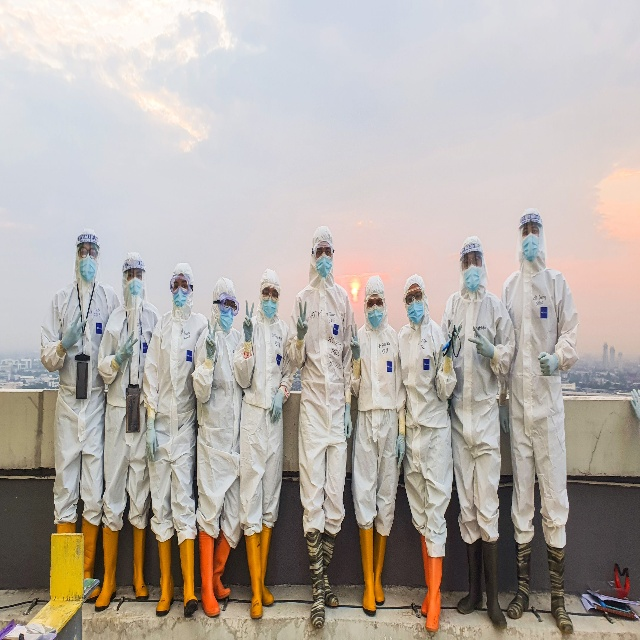Gafas: (217, 293, 239, 316), (169, 275, 189, 293), (403, 287, 423, 305), (262, 287, 280, 301), (78, 247, 97, 260)
Guantes: (61, 309, 88, 350), (468, 324, 496, 357), (114, 329, 138, 365), (537, 350, 560, 378), (269, 389, 285, 425), (205, 316, 218, 360), (145, 417, 157, 463), (242, 298, 254, 343), (446, 324, 461, 359), (296, 299, 308, 340), (349, 319, 361, 359), (394, 432, 406, 468), (343, 403, 353, 441), (498, 404, 510, 434)
Mascara: (79, 252, 97, 282), (463, 264, 482, 292), (521, 231, 539, 260), (405, 297, 425, 323), (316, 252, 332, 279), (261, 295, 279, 317), (367, 304, 383, 328), (172, 286, 187, 308), (220, 307, 233, 330), (128, 276, 141, 295)
